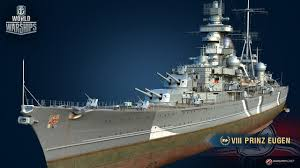tau_muctieu: (19, 20, 285, 162)
